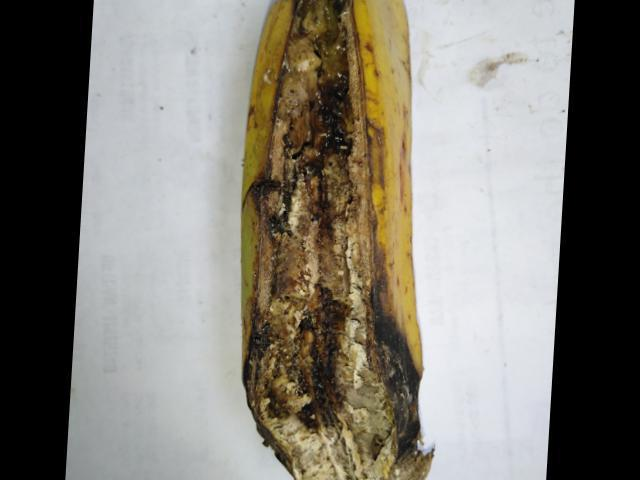rotten: (218, 0, 445, 479)
